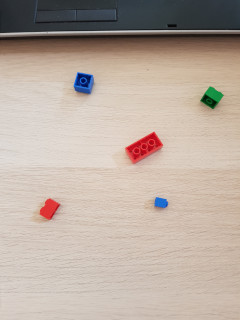1x1 blue: (152, 194, 170, 211)
1x2 red: (39, 198, 62, 219)
2x2 blue: (72, 71, 95, 96)
2x2 green: (200, 86, 225, 110)
2x4 red: (125, 132, 164, 163)
